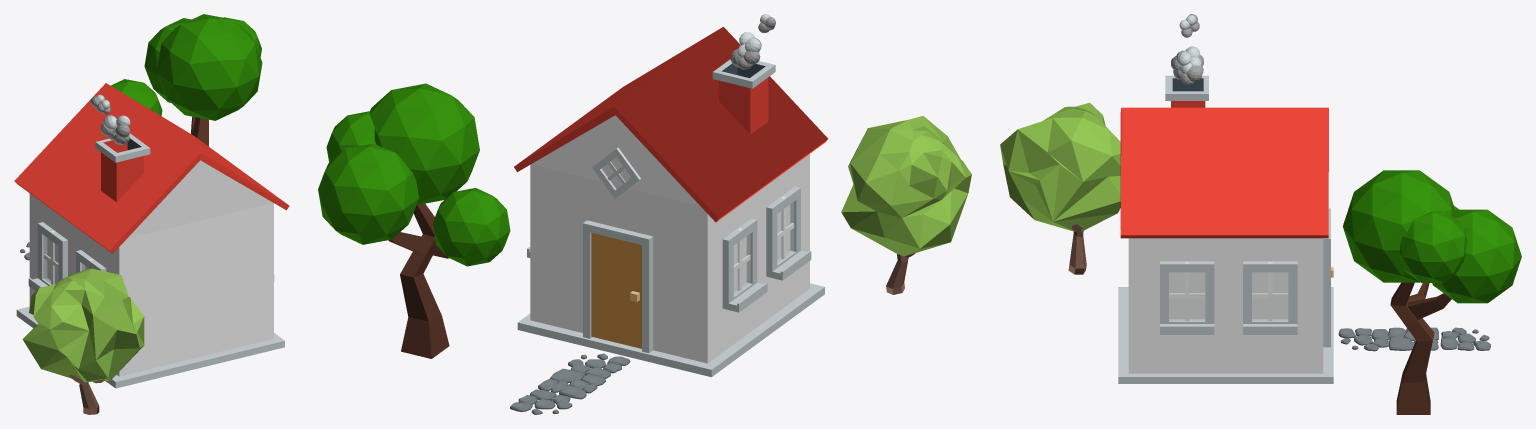
File: house.glb
3 renders of one model, left to right at view 1: azimuth 30°, elevation 25°; view 2: azimuth 150°, elevation 25°; view 3: azimuth 270°, elevation 25°, orthographic. The views are drawn at different scales.
Parts seen in each view (by area): view 1: Small House, Tree(1), Icosphere_003, Cube; view 2: Small House, Icosphere_003, Tree(1), Cube, path_B, path_C2, path_C; view 3: Small House, Icosphere_003, Tree(1), Cube, path_C, path_C2, path_B.
Boxes of the visible parts, x1=… form: Small House: x1=14, y1=83, x2=289, y2=388; Tree(1): x1=22, y1=268, x2=144, y2=414; Icosphere_003: x1=111, y1=14, x2=262, y2=120; Cube: x1=191, y1=116, x2=208, y2=146; Small House: x1=514, y1=14, x2=827, y2=377; Icosphere_003: x1=318, y1=83, x2=510, y2=266; Tree(1): x1=841, y1=116, x2=971, y2=294; Cube: x1=388, y1=203, x2=449, y2=358; path_B: x1=538, y1=368, x2=605, y2=399; path_C2: x1=510, y1=389, x2=572, y2=414; path_C: x1=568, y1=353, x2=630, y2=378; Small House: x1=1118, y1=14, x2=1333, y2=383; Icosphere_003: x1=1343, y1=170, x2=1521, y2=303; Tree(1): x1=1000, y1=102, x2=1120, y2=274; Cube: x1=1390, y1=282, x2=1451, y2=414; path_C: x1=1338, y1=328, x2=1389, y2=351; path_C2: x1=1440, y1=327, x2=1490, y2=350; path_B: x1=1388, y1=327, x2=1438, y2=350.
Bounding box in the file's own units: 17.91 × 11.7 × 19.15.
15 materials, 2 textured.
